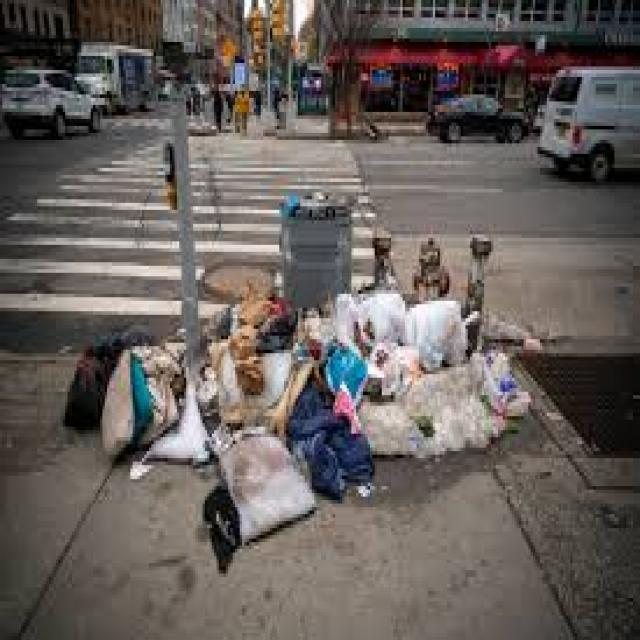garbage: (58, 286, 530, 580)
